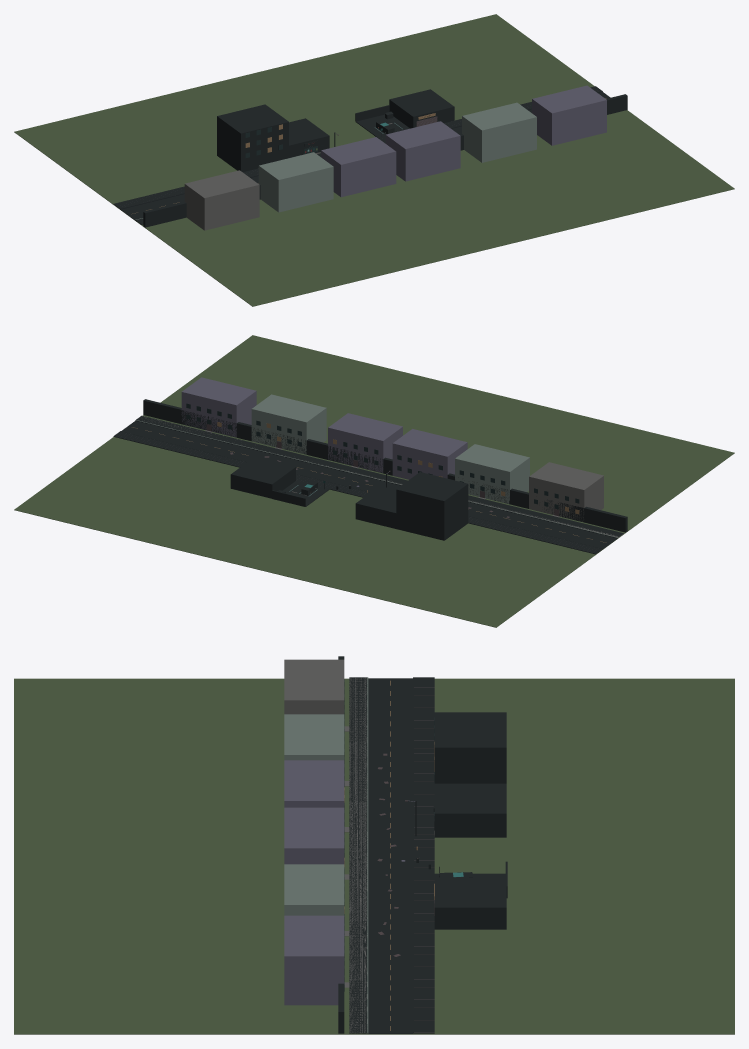
File: bar_strada.glb
The picture shows the model from 3 angles, top to bottom: view 1: azimuth 30°, elevation 25°; view 2: azimuth 150°, elevation 25°; view 3: azimuth 270°, elevation 25°; orthographic projection. The views are drawn at different scales.
Visible parts, largest first — view 1: Strada, Coliziune; view 2: Strada, Coliziune; view 3: Strada, Coliziune.
Boxes of the visible parts, <box> form: Strada: <box>14,14,734,306</box>; Coliziune: <box>113,86,627,227</box>; Strada: <box>14,335,734,627</box>; Coliziune: <box>113,399,627,554</box>; Strada: <box>14,659,734,1034</box>; Coliziune: <box>338,656,507,1033</box>.
Bounding box in the file's own units: 140 × 11.16 × 120.
